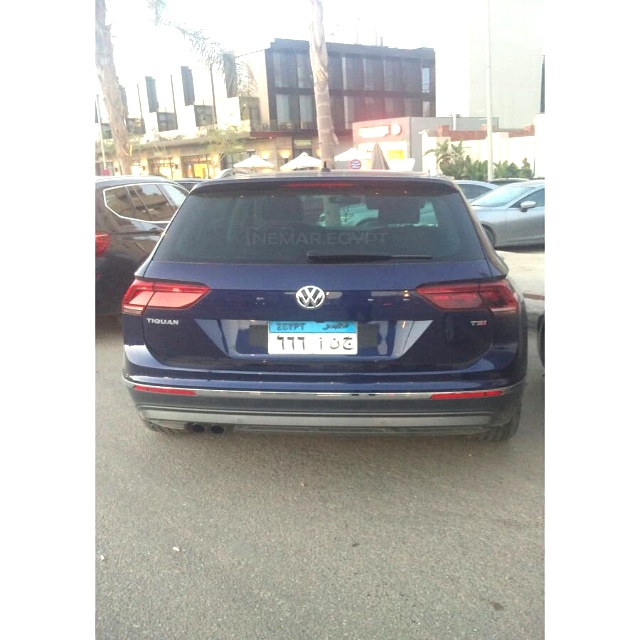License Plate: (263, 319, 363, 357)
